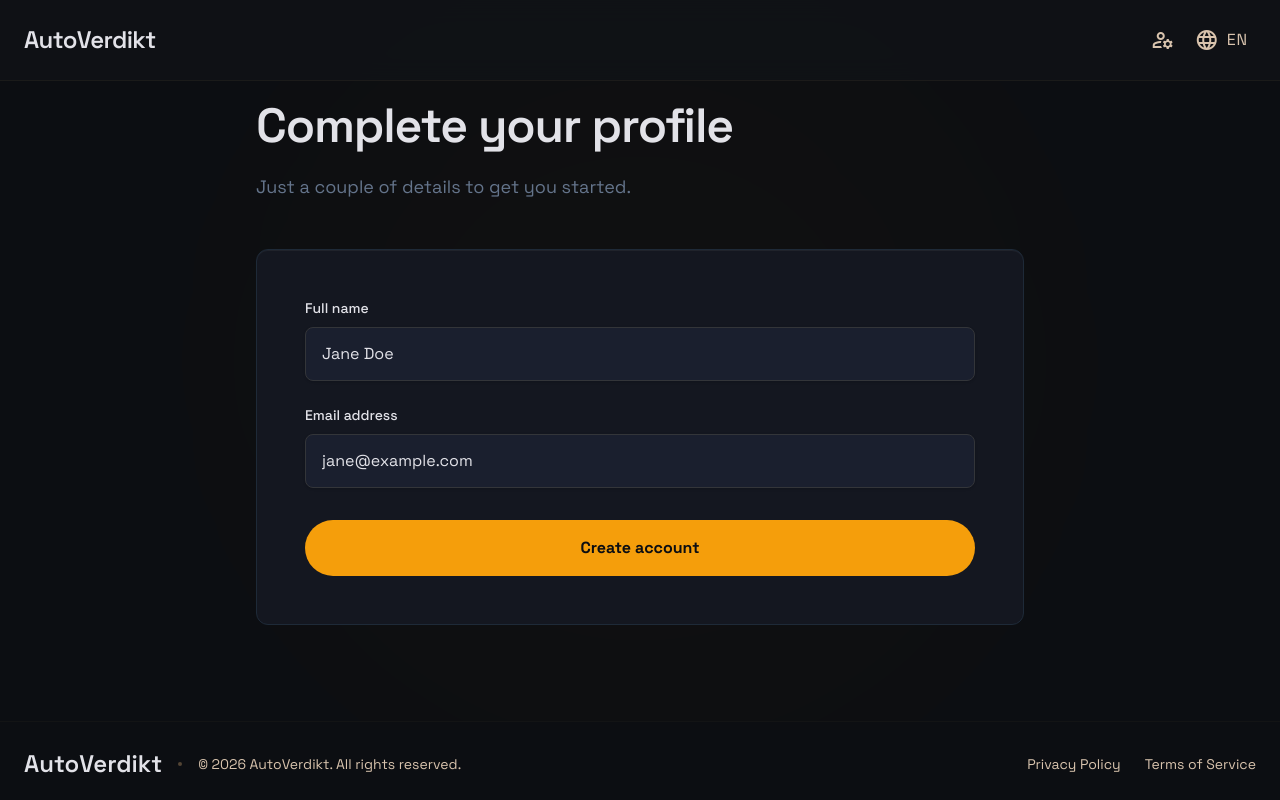
Test: RegisterPage › displays field-level validation errors from API 400 response
Click the button "Create account": coordinates (640, 548) [305,520,975,576]
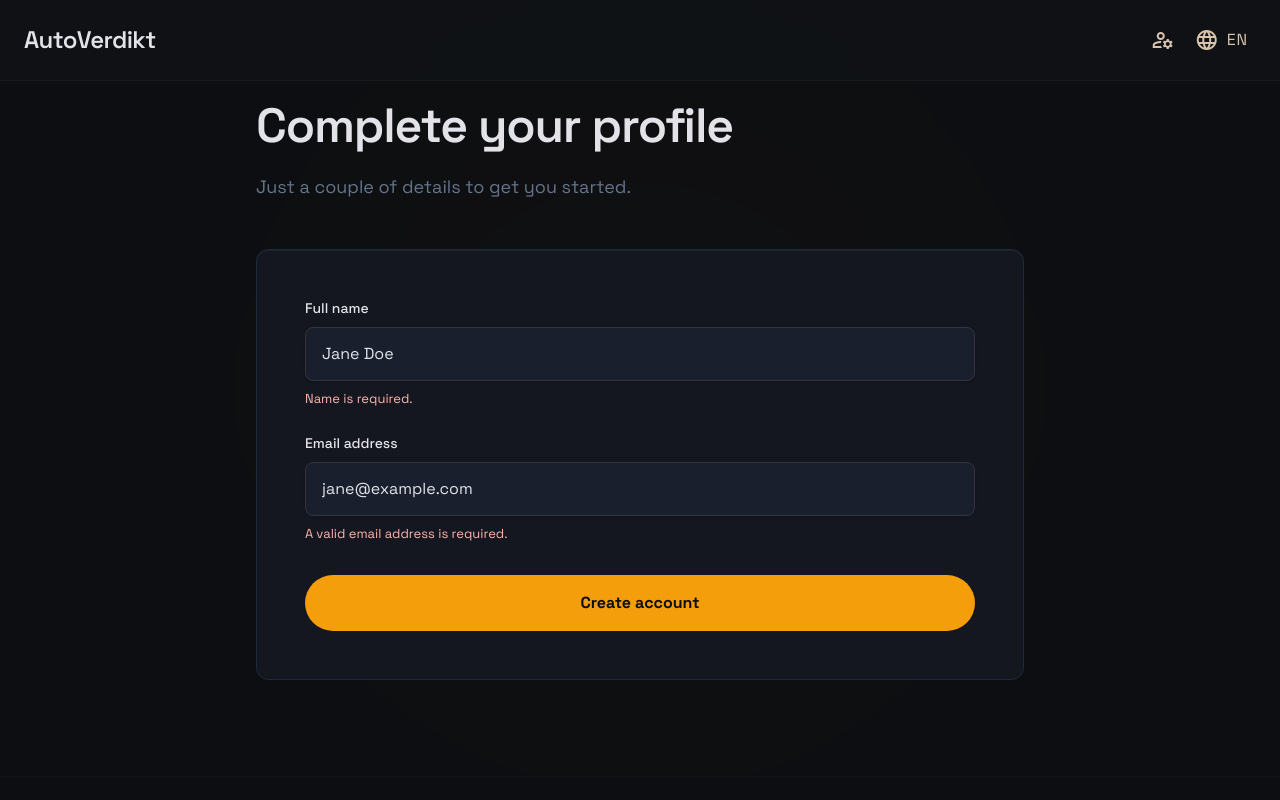
Expected: the text "Name is required." is shown, [305,390,413,407]
Expected: the text "A valid email address is required." is shown, [305,525,508,542]
